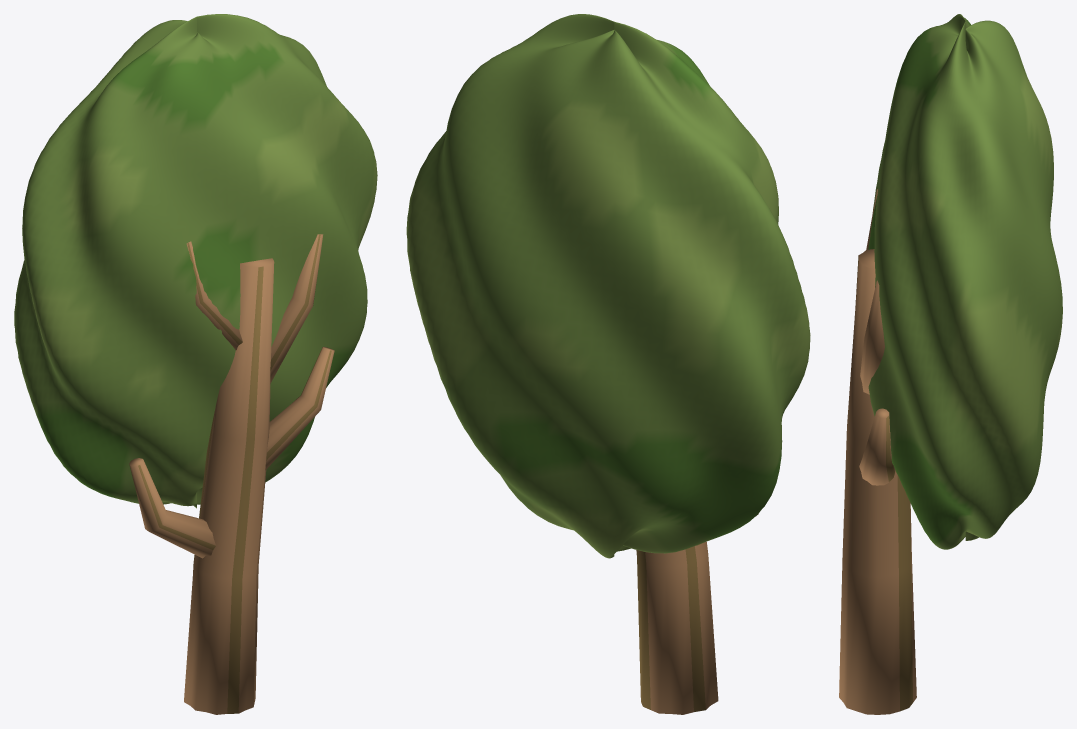
The model's file is tree05.glb.
The picture shows the model from 3 angles, left to right: view 1: azimuth 30°, elevation 25°; view 2: azimuth 150°, elevation 25°; view 3: azimuth 270°, elevation 25°; orthographic projection. The views are drawn at different scales.
Parts seen in each view (by area): view 1: Tall lobed broadleaf crown, Tall warm trunk, Spreading broadleaf branch, Spreading broadleaf branch.001, Spreading broadleaf branch.002, Spreading broadleaf branch.003; view 2: Tall lobed broadleaf crown, Tall warm trunk; view 3: Tall lobed broadleaf crown, Tall warm trunk, Spreading broadleaf branch.001, Spreading broadleaf branch.002.
Part boxes in pixels (x1,y1,x2,y2): Tall lobed broadleaf crown: [14, 14, 377, 508]; Tall warm trunk: [184, 258, 274, 714]; Spreading broadleaf branch: [129, 458, 215, 558]; Spreading broadleaf branch.001: [265, 347, 334, 470]; Spreading broadleaf branch.002: [270, 234, 323, 383]; Spreading broadleaf branch.003: [186, 241, 242, 350]; Tall lobed broadleaf crown: [406, 14, 810, 558]; Tall warm trunk: [636, 541, 718, 714]; Tall lobed broadleaf crown: [868, 14, 1062, 549]; Tall warm trunk: [839, 249, 916, 714]; Spreading broadleaf branch.001: [859, 408, 895, 485]; Spreading broadleaf branch.002: [860, 280, 884, 394].
Size of the model in its own units: 0.5678 by 1 by 0.2951.
